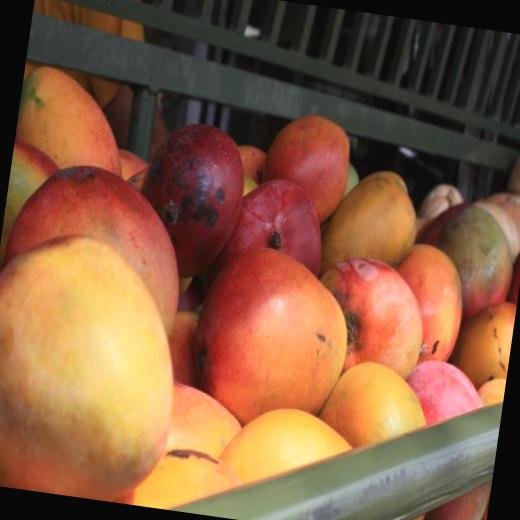Apple: (179, 243, 354, 435)
